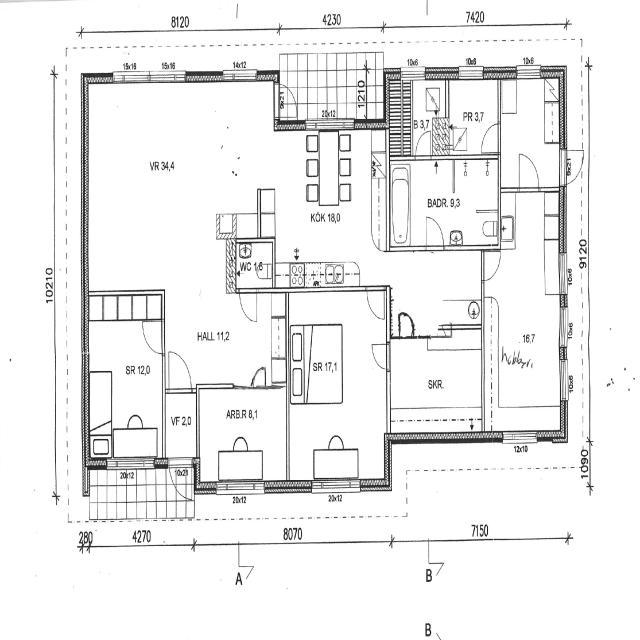door: (165, 346, 194, 393), (168, 458, 194, 500), (516, 149, 542, 190), (140, 316, 165, 355), (237, 286, 259, 324), (365, 285, 388, 321), (479, 119, 502, 154), (424, 212, 445, 250), (481, 247, 502, 282), (369, 339, 390, 370), (413, 127, 432, 159), (448, 122, 466, 150), (250, 364, 268, 390)
window: (113, 450, 156, 473), (316, 475, 360, 493), (112, 68, 151, 88), (222, 66, 260, 86), (500, 428, 540, 447), (149, 68, 187, 88), (222, 476, 260, 495), (557, 353, 569, 403), (559, 247, 569, 298), (558, 301, 569, 347), (515, 64, 543, 82), (456, 66, 484, 82), (318, 120, 345, 134), (403, 67, 426, 81)
zone: (84, 81, 280, 237), (481, 187, 564, 430), (289, 289, 387, 476), (276, 131, 386, 290), (84, 295, 164, 463), (391, 157, 499, 246), (388, 334, 484, 434), (196, 386, 288, 484), (390, 250, 484, 336), (498, 77, 563, 189), (387, 77, 442, 156), (445, 78, 501, 155), (164, 388, 198, 462), (236, 239, 274, 291), (112, 438, 160, 471)
